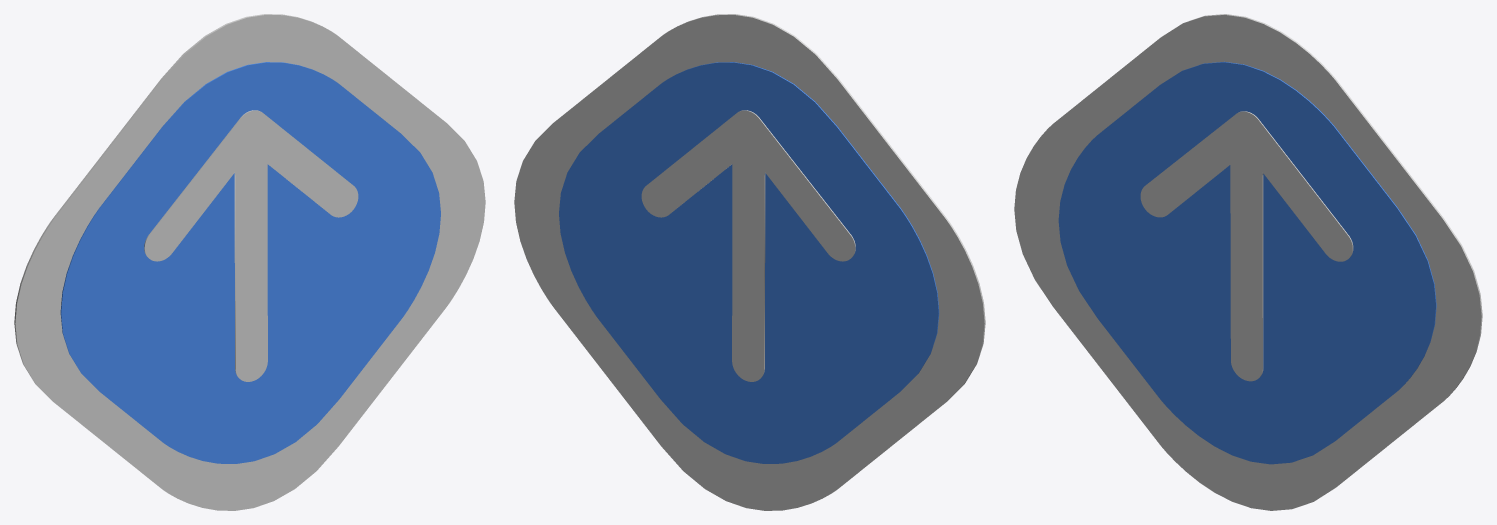
Rendered from straight.glb.
The picture shows the model from 3 angles, left to right: view 1: azimuth 30°, elevation 25°; view 2: azimuth 150°, elevation 25°; view 3: azimuth 330°, elevation 25°; orthographic projection.
Visible parts, largest first — view 1: Curve.002, Curve.001, Curve.003; view 2: Curve.002, Curve.001, Curve.003; view 3: Curve.002, Curve.001, Curve.003.
Boxes of the visible parts, x1,y1,x2,y2 form: Curve.002: (60, 62, 440, 463); Curve.001: (14, 14, 485, 510); Curve.003: (144, 110, 358, 381); Curve.002: (559, 62, 939, 463); Curve.001: (514, 14, 985, 510); Curve.003: (641, 110, 855, 381); Curve.002: (1058, 61, 1436, 464); Curve.001: (1014, 14, 1482, 510); Curve.003: (1140, 111, 1353, 381).
Size of the model in its own units: 0.9579 by 0.9577 by 0.012.
